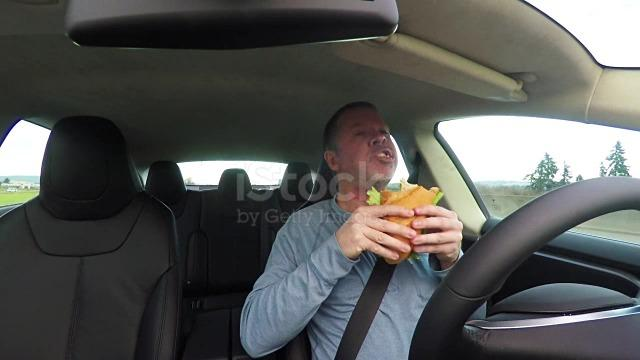Eating: (301, 87, 466, 269)
